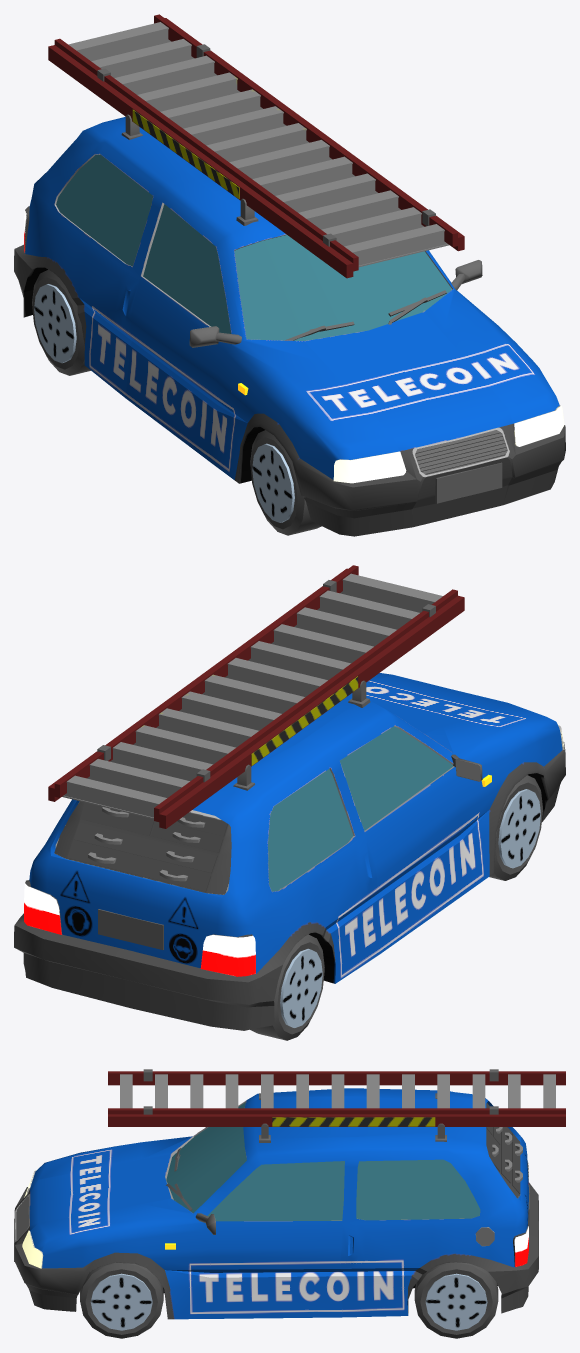
Rendered from Fiet-Telecoin.fbx.
3 views of the same model, one above another, from view 1: azimuth 30°, elevation 25°; view 2: azimuth 150°, elevation 25°; view 3: azimuth 270°, elevation 25° (orthographic). The views are drawn at different scales.
Parts seen in each view (by area): view 1: Fiet-TeleCoin, FietWheel-FR, FietWheel-BR; view 2: Fiet-TeleCoin, FietWheel-BR, FietWheel-FR; view 3: Fiet-TeleCoin, FietWheel-BL, FietWheel-FL.
Boxes of the visible parts, x1,y1,x2,y2 form: Fiet-TeleCoin: [14, 14, 565, 536]; FietWheel-FR: [250, 430, 321, 535]; FietWheel-BR: [32, 269, 90, 375]; Fiet-TeleCoin: [14, 565, 565, 1030]; FietWheel-BR: [250, 934, 324, 1040]; FietWheel-FR: [489, 775, 542, 880]; Fiet-TeleCoin: [14, 1069, 565, 1319]; FietWheel-BL: [414, 1262, 498, 1338]; FietWheel-FL: [80, 1262, 163, 1338].
Size of the model in its own units: 203 by 177 by 434.
